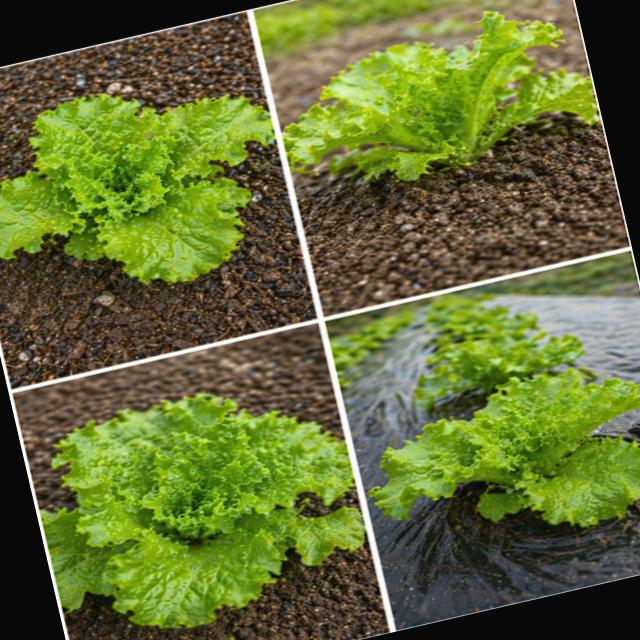inmadura: (286, 11, 598, 180), (0, 93, 271, 281), (371, 368, 640, 525)
lista_para_cosechar: (43, 393, 364, 626)
